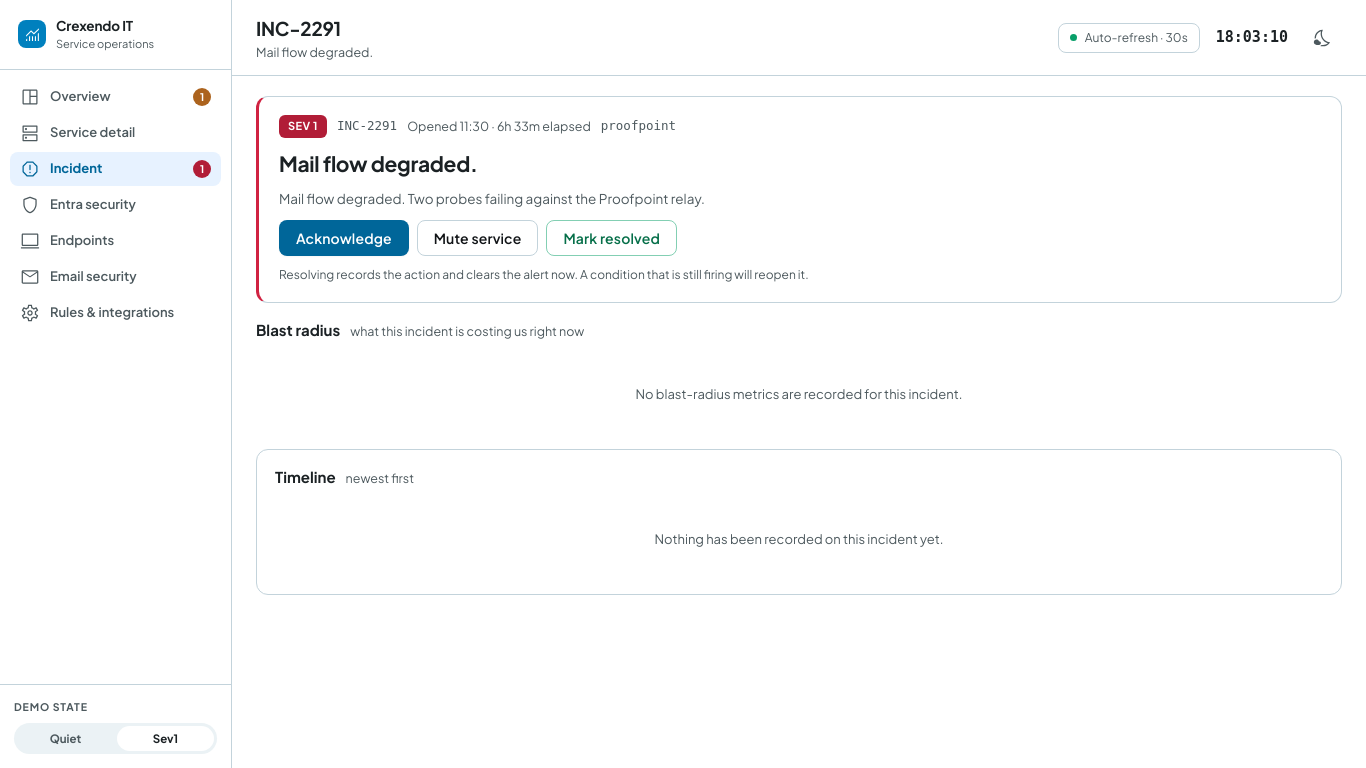
Test: the incident detail hero writes through the same seam › swaps the warning for the note once a resolve lands
Expected: the element with test id "incident-hero" is shown, [279, 115, 809, 282]
Expected: the text with test id "resolve-warning" shows "Resolving records the action and clears the alert now. A condition that is still firing will reopen it.", [279, 266, 809, 282]
Click the button "Mark resolved" at coordinates (612, 238), box [546, 220, 677, 256]
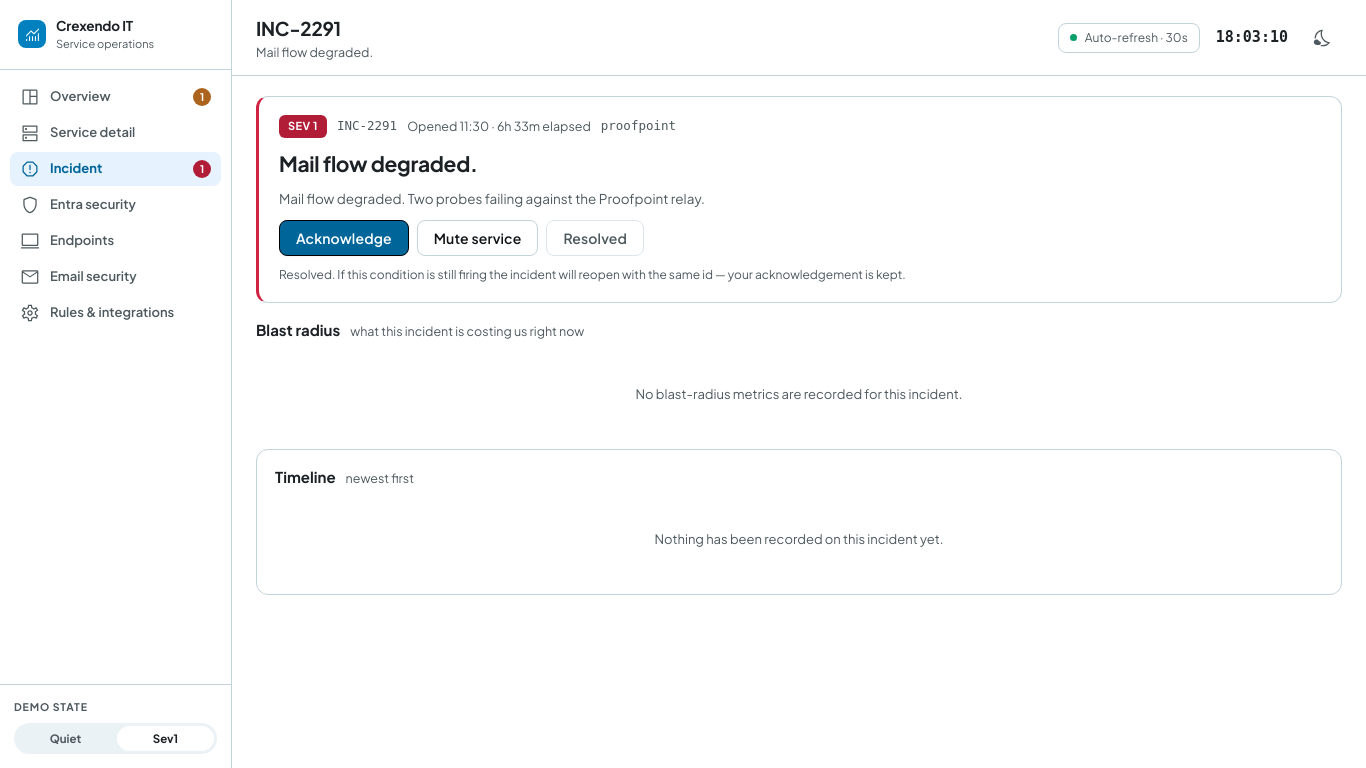
Expected: the text with test id "resolve-note" shows "Resolved. If this condition is still firing the incident will reopen with the same id — your acknowledgement is kept.", [279, 266, 906, 282]
